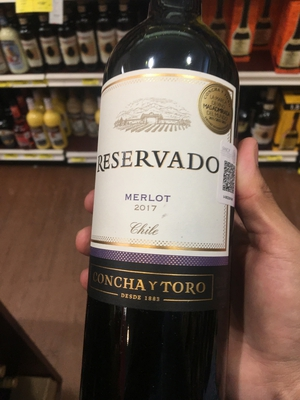reservado merlot: (74, 22, 236, 362)
